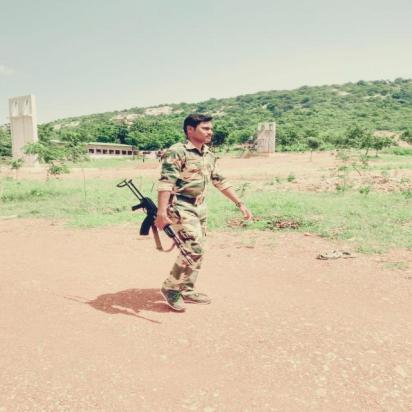Gun: (115, 177, 196, 267)
